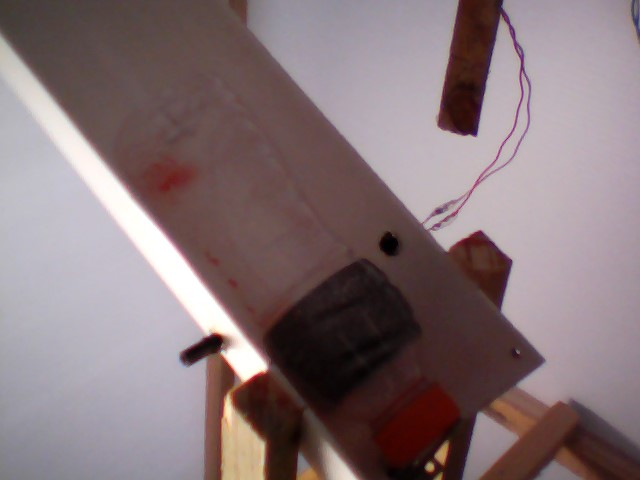plastico: (104, 70, 464, 472)
